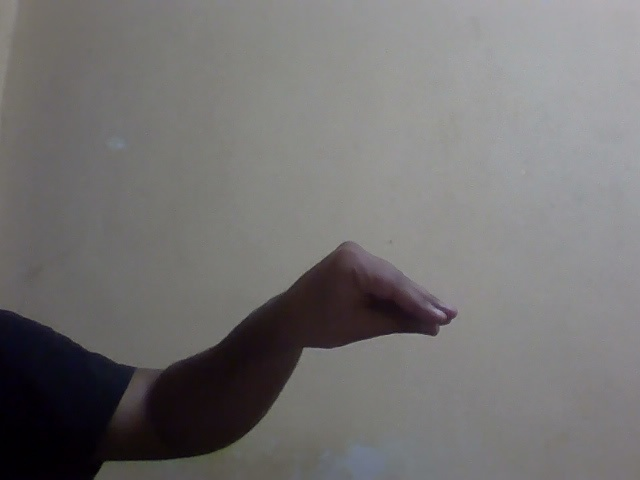No: (240, 219, 477, 376)
